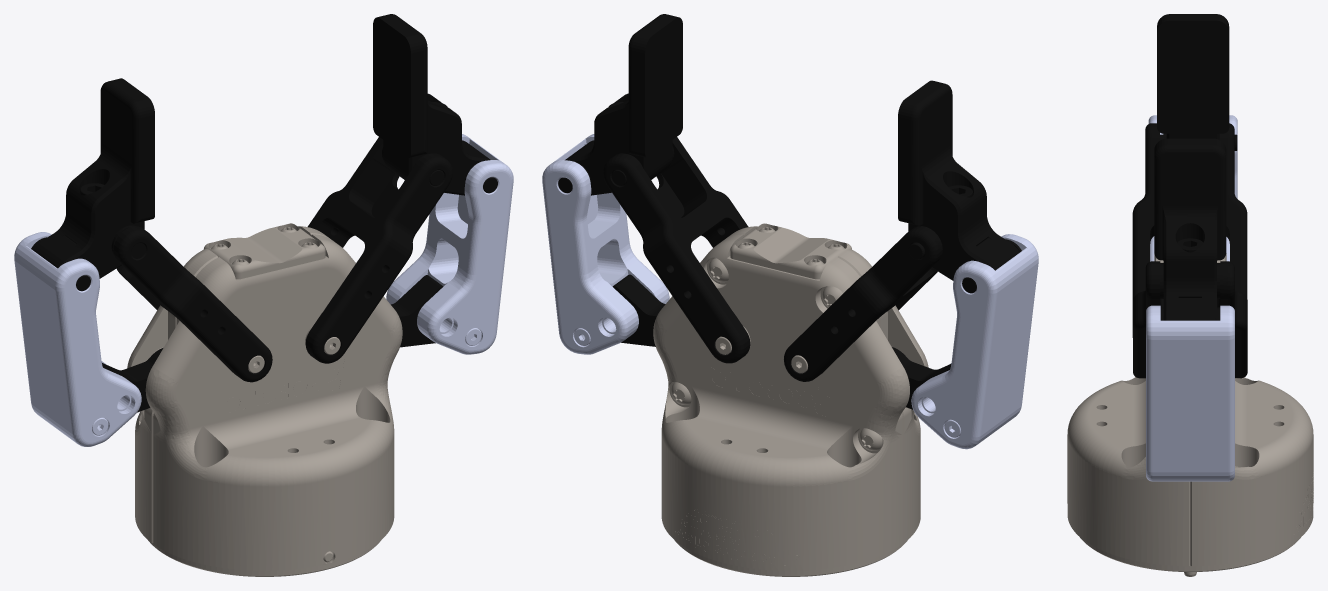
File: Gripper.obj
The picture shows the model from 3 angles, left to right: view 1: azimuth 30°, elevation 25°; view 2: azimuth 150°, elevation 25°; view 3: azimuth 270°, elevation 25°; orthographic projection. The views are drawn at different scales.
Parts seen in each view (by area): view 1: Defeatured 2F-85 PAD OPEN_base.step, Defeatured 2F-85 PAD OPEN_finger2.step, Defeatured 2F-85 PAD OPEN_finger2.step001, Defeatured 2F-85 PAD OPEN_finger3.step001, Defeatured 2F-85 PAD OPEN_fingertips.step, Defeatured 2F-85 PAD OPEN_finger3.step, Defeatured 2F-85 PAD OPEN_fingertips.step001, Defeatured 2F-85 PAD OPEN_finger4.step, Defeatured 2F-85 PAD OPEN_finger4.step001, Defeatured 2F-85 PAD OPEN_Finger1.step001, Defeatured 2F-85 PAD OPEN_Finger1.step; view 2: Defeatured 2F-85 PAD OPEN_base.step, Defeatured 2F-85 PAD OPEN_finger2.step, Defeatured 2F-85 PAD OPEN_finger2.step001, Defeatured 2F-85 PAD OPEN_finger3.step001, Defeatured 2F-85 PAD OPEN_fingertips.step, Defeatured 2F-85 PAD OPEN_fingertips.step001, Defeatured 2F-85 PAD OPEN_finger3.step, Defeatured 2F-85 PAD OPEN_finger4.step, Defeatured 2F-85 PAD OPEN_finger4.step001, Defeatured 2F-85 PAD OPEN_Finger1.step001, Defeatured 2F-85 PAD OPEN_Finger1.step; view 3: Defeatured 2F-85 PAD OPEN_base.step, Defeatured 2F-85 PAD OPEN_finger2.step001, Defeatured 2F-85 PAD OPEN_fingertips.step001, Defeatured 2F-85 PAD OPEN_fingertips.step, Defeatured 2F-85 PAD OPEN_finger3.step, Defeatured 2F-85 PAD OPEN_finger3.step001, Defeatured 2F-85 PAD OPEN_finger4.step001, Defeatured 2F-85 PAD OPEN_finger2.step, Defeatured 2F-85 PAD OPEN_finger4.step.
Part boxes in pixels (box(x1,y1,x2,y2)): Defeatured 2F-85 PAD OPEN_base.step: box(127, 223, 402, 576); Defeatured 2F-85 PAD OPEN_finger2.step: box(14, 232, 141, 446); Defeatured 2F-85 PAD OPEN_finger2.step001: box(386, 134, 513, 354); Defeatured 2F-85 PAD OPEN_finger3.step001: box(305, 137, 452, 363); Defeatured 2F-85 PAD OPEN_fingertips.step: box(66, 78, 154, 230); Defeatured 2F-85 PAD OPEN_finger3.step: box(113, 226, 272, 382); Defeatured 2F-85 PAD OPEN_fingertips.step001: box(373, 14, 461, 157); Defeatured 2F-85 PAD OPEN_finger4.step: box(31, 183, 144, 291); Defeatured 2F-85 PAD OPEN_finger4.step001: box(382, 102, 497, 195); Defeatured 2F-85 PAD OPEN_Finger1.step001: box(391, 275, 443, 347); Defeatured 2F-85 PAD OPEN_Finger1.step: box(102, 347, 163, 412); Defeatured 2F-85 PAD OPEN_base.step: box(653, 223, 928, 576); Defeatured 2F-85 PAD OPEN_finger2.step: box(911, 234, 1038, 449); Defeatured 2F-85 PAD OPEN_finger2.step001: box(542, 134, 669, 354); Defeatured 2F-85 PAD OPEN_finger3.step001: box(603, 137, 750, 363); Defeatured 2F-85 PAD OPEN_fingertips.step: box(898, 80, 986, 232); Defeatured 2F-85 PAD OPEN_fingertips.step001: box(594, 14, 682, 157); Defeatured 2F-85 PAD OPEN_finger3.step: box(784, 226, 942, 381); Defeatured 2F-85 PAD OPEN_finger4.step: box(908, 185, 1021, 293); Defeatured 2F-85 PAD OPEN_finger4.step001: box(558, 102, 674, 195); Defeatured 2F-85 PAD OPEN_Finger1.step001: box(612, 274, 665, 346); Defeatured 2F-85 PAD OPEN_Finger1.step: box(892, 347, 951, 409); Defeatured 2F-85 PAD OPEN_base.step: box(1067, 253, 1313, 576); Defeatured 2F-85 PAD OPEN_finger2.step001: box(1146, 305, 1234, 481); Defeatured 2F-85 PAD OPEN_fingertips.step001: box(1154, 138, 1226, 277); Defeatured 2F-85 PAD OPEN_fingertips.step: box(1157, 14, 1229, 133); Defeatured 2F-85 PAD OPEN_finger3.step: box(1132, 123, 1247, 337); Defeatured 2F-85 PAD OPEN_finger3.step001: box(1133, 261, 1247, 378); Defeatured 2F-85 PAD OPEN_finger4.step001: box(1160, 238, 1220, 320); Defeatured 2F-85 PAD OPEN_finger2.step: box(1148, 115, 1237, 261); Defeatured 2F-85 PAD OPEN_finger4.step: box(1160, 133, 1237, 150).
Bounding box in the file's own units: 152 × 153 × 75.
